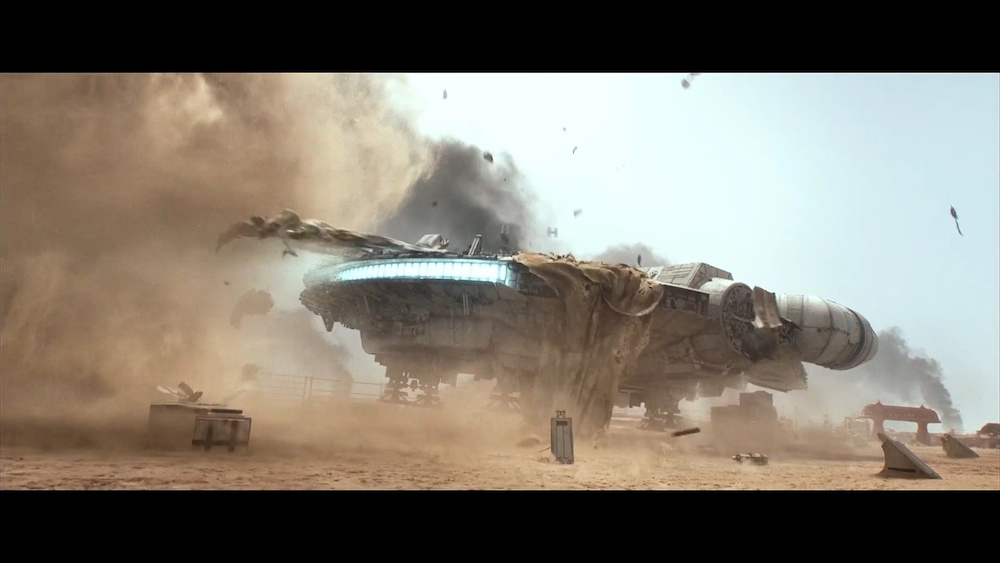Millennium Falcon: (299, 248, 877, 406)
Tie Fighter: (548, 228, 558, 238)
